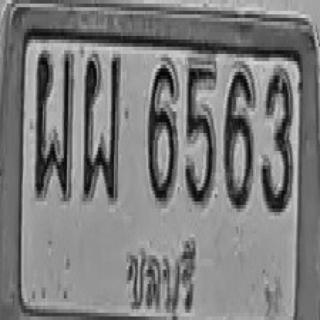A28: (33, 49, 73, 200), (82, 52, 120, 200)
N03: (261, 68, 292, 212)
N05: (185, 61, 216, 205)
N06: (223, 68, 255, 209), (147, 59, 177, 203)
P13: (122, 230, 199, 319)
